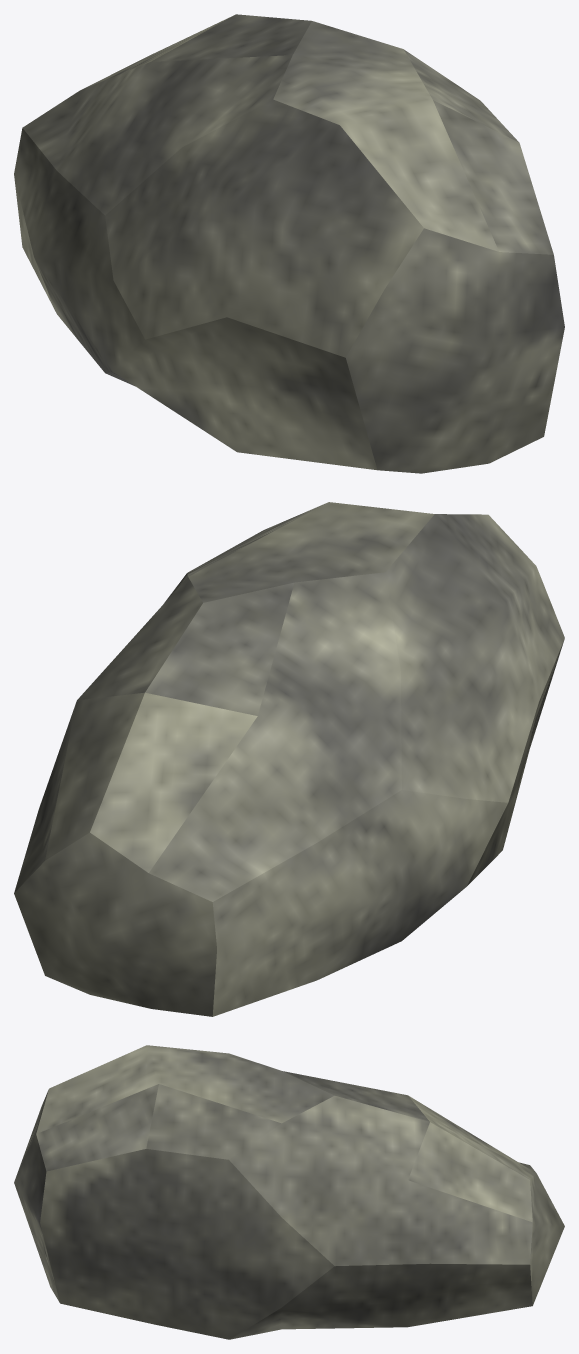
The model's file is Pedra3.fbx.
3 renders of one model, top to bottom at view 1: azimuth 30°, elevation 25°; view 2: azimuth 150°, elevation 25°; view 3: azimuth 270°, elevation 25°, orthographic. The views are drawn at different scales.
Visible parts, largest first — view 1: pPlatonic3; view 2: pPlatonic3; view 3: pPlatonic3.
Part boxes in pixels (x1=…): pPlatonic3: x1=14, y1=14, x2=564, y2=473; pPlatonic3: x1=14, y1=502, x2=564, y2=1016; pPlatonic3: x1=14, y1=1045, x2=564, y2=1339.
Size of the model in its own units: 3 by 2.67 by 5.53.
1 material, 1 textured.
